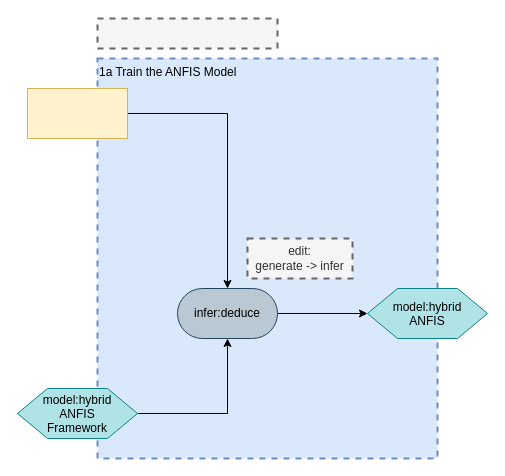
Image size: 505x476. Some labels were removed from this diagram. Here are the shapes that lost their labels. From the top down, the box of each, then its label:
(96, 17, 278, 49): <-- Back to Generalized Pattern
(26, 88, 128, 138): data Pre-processed Data
